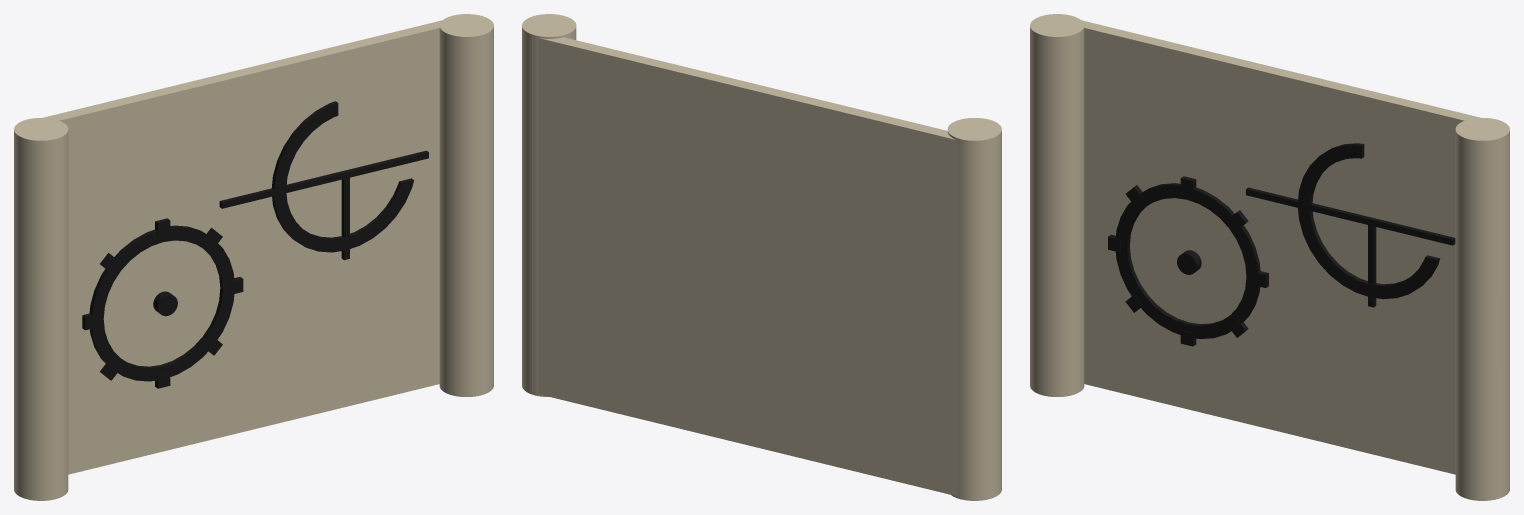
File: constructor_scene_model_2.gltf
The picture shows the model from 3 angles, left to right: view 1: azimuth 30°, elevation 25°; view 2: azimuth 150°, elevation 25°; view 3: azimuth 330°, elevation 25°; orthographic projection.
Parts seen in each view (by area): view 1: Цилиндр.001; view 2: Цилиндр.001; view 3: Цилиндр.001.
Part boxes in pixels (x1,y1,x2,y2): Цилиндр.001: [14, 14, 493, 500]; Цилиндр.001: [522, 14, 1001, 500]; Цилиндр.001: [1030, 14, 1509, 500].
Size of the model in its own units: 17.7 by 12.88 by 1.77.
